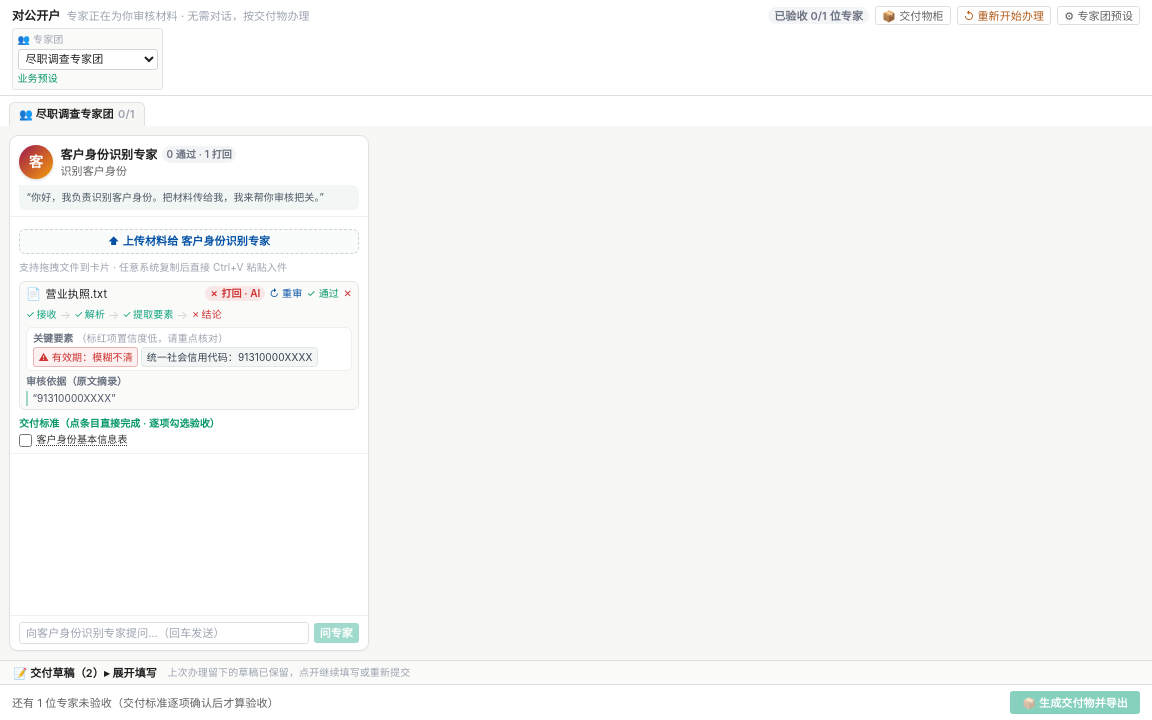
Test case: 草稿页签与审核交互（BUGFIX #86/#87） › 多草稿用页签切换不接龙，默认停在最新草稿
Click the button "📝 交付草稿（2）▸ 展开填写" at (85, 672), box [9,664,162,681]
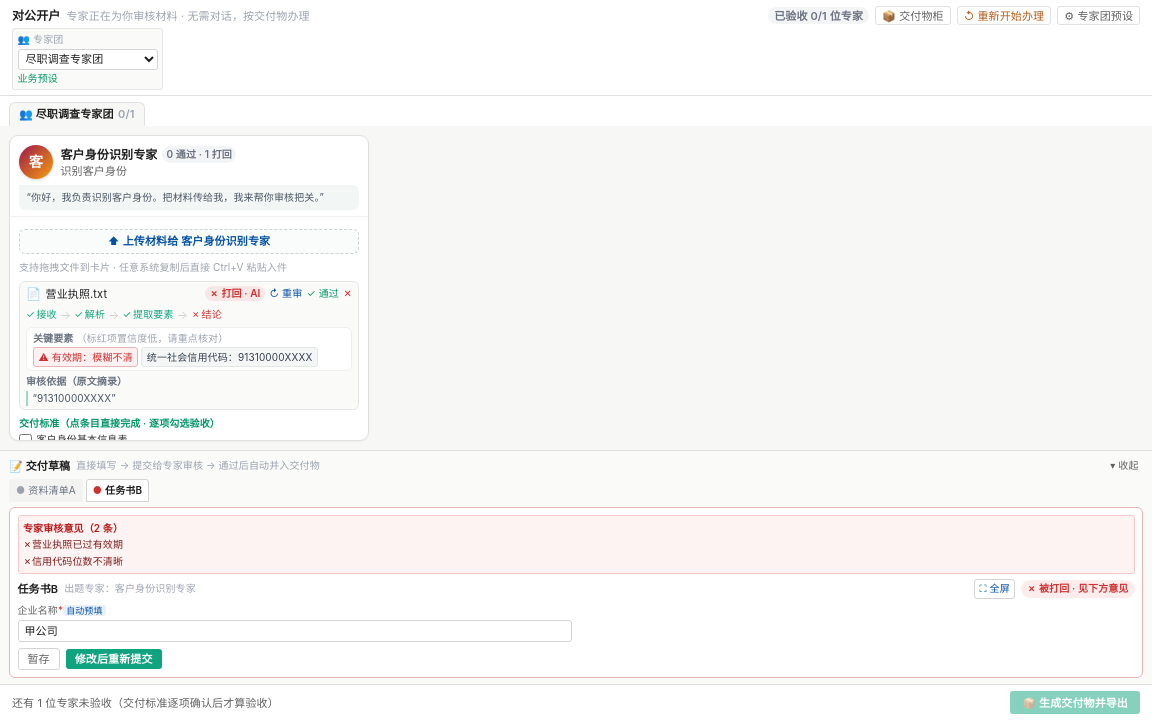
Check: the text "专家审核意见（2 条）" is shown, box [23,522,123,534]
Click the text "资料清单A" at (52, 490), box [28,483,76,498]
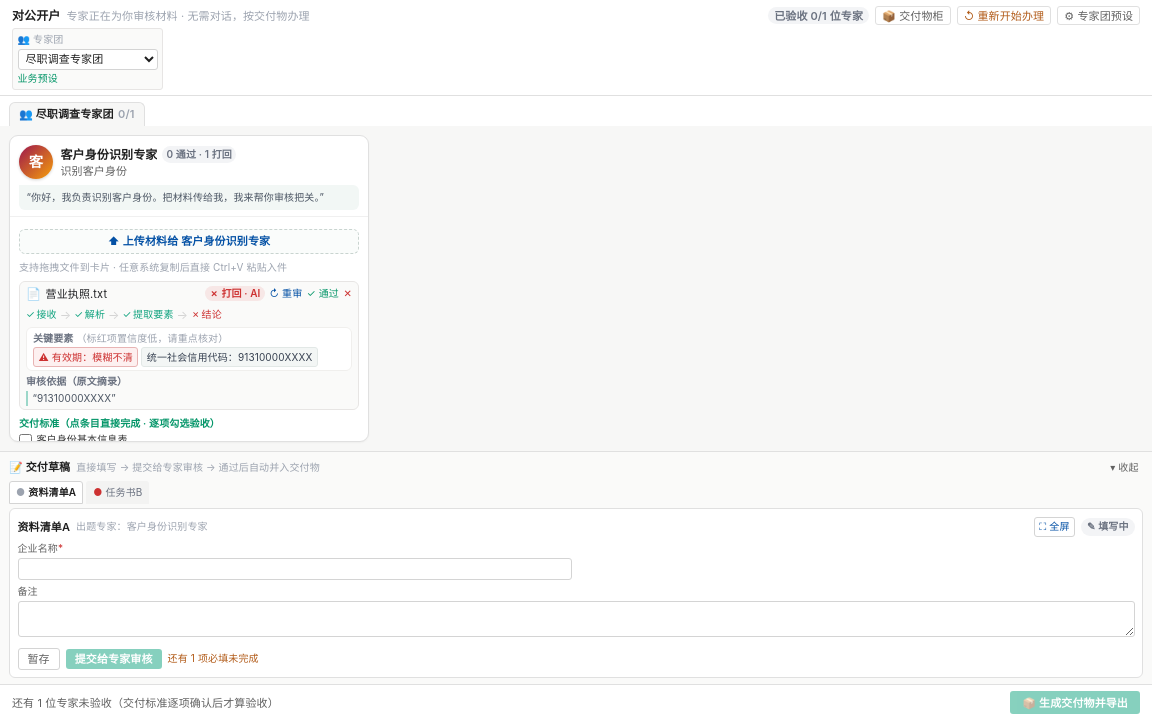
Check: the text "专家审核意见" is gone
